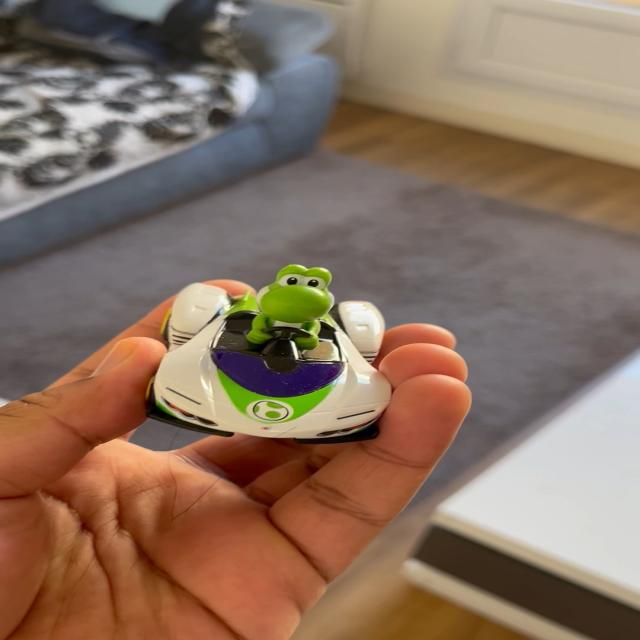yoshi: (135, 255, 415, 450)
